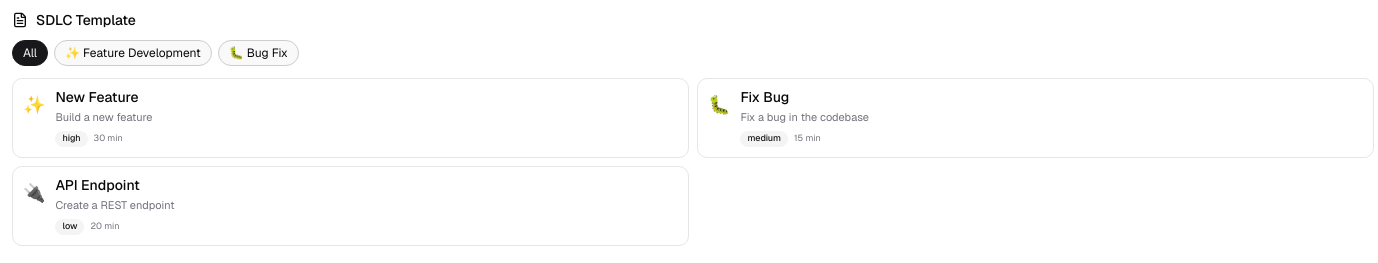
TemplatePicker › shows all templates when All chip is clicked
Note: First filter to bugfix
Click the button "🐛 Bug Fix" at x=258, y=53, box [218, 40, 299, 66]
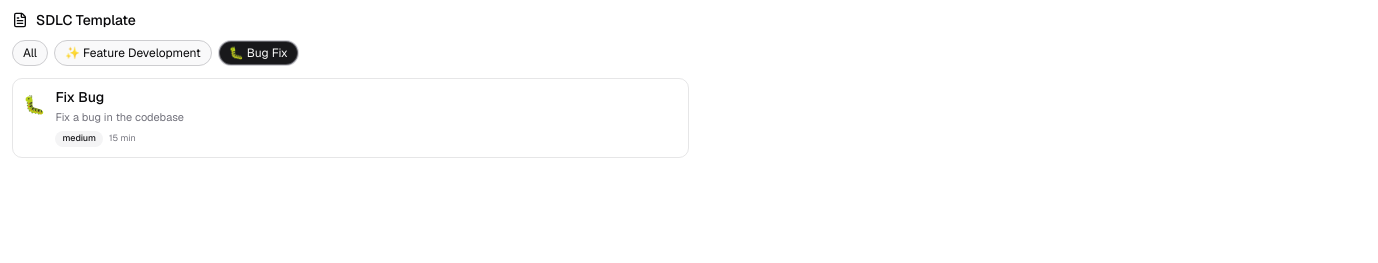
expect the button "New Feature" is gone: met
Note: Then click All
Click the button "All" at x=30, y=53, box [12, 40, 48, 66]
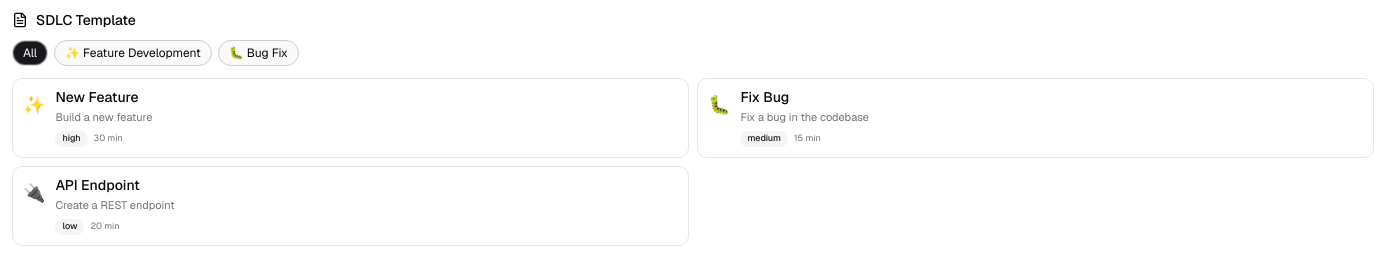
expect the text "Fix Bug" is shown: met, box [740, 88, 789, 106]
expect the text "New Feature" is shown: met, box [56, 88, 139, 106]
